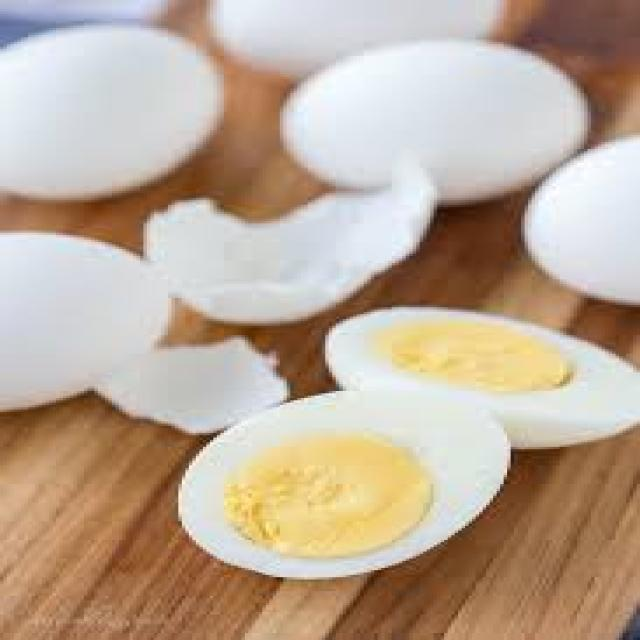boiled egg: (179, 389, 510, 579), (326, 308, 639, 449)
